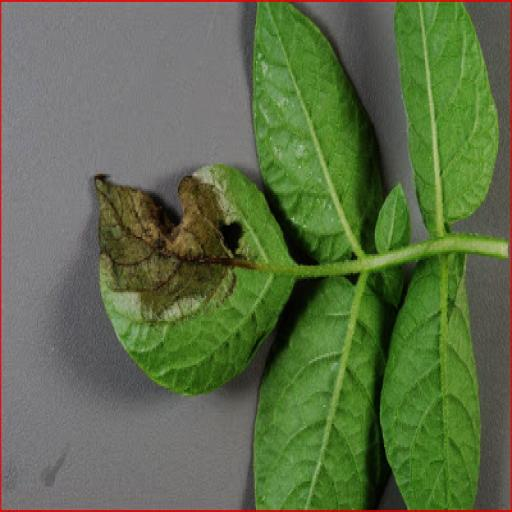disease_tomato: (87, 157, 302, 407)
